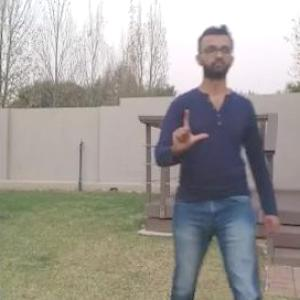land_hand: (164, 104, 214, 160)
